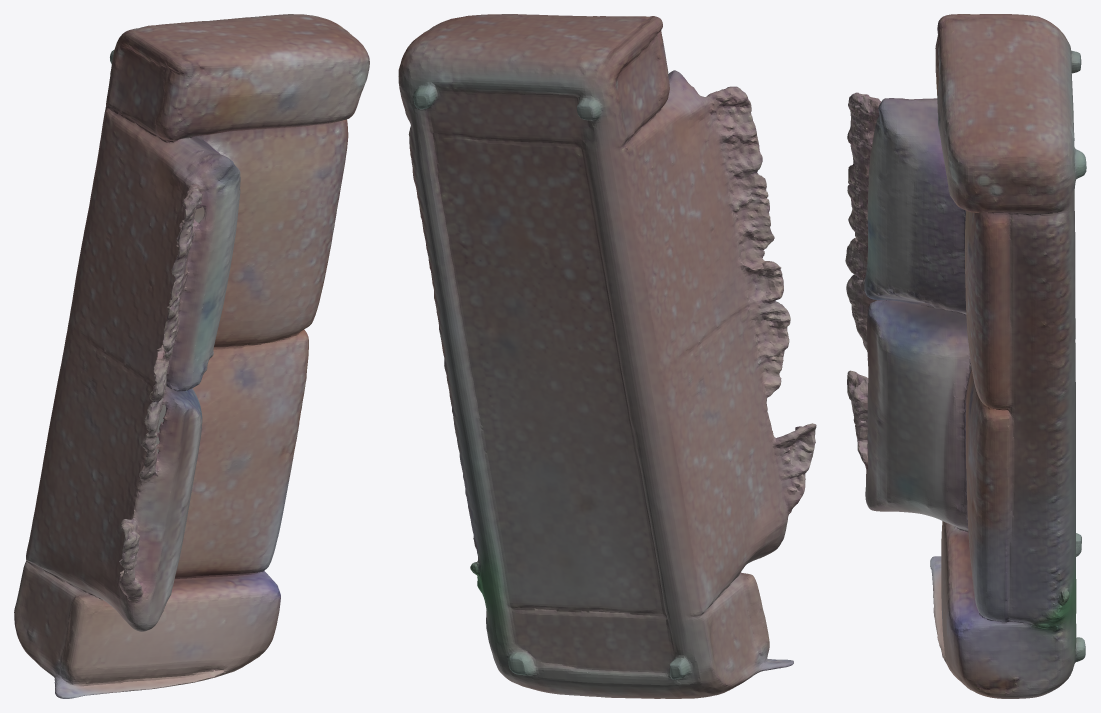
The picture shows the model from 3 angles, left to right: view 1: azimuth 30°, elevation 25°; view 2: azimuth 150°, elevation 25°; view 3: azimuth 270°, elevation 25°; orthographic projection. The views are drawn at different scales.
Visible parts, largest first — view 1: object-3.glb; view 2: object-3.glb; view 3: object-3.glb.
Part boxes in pixels (box(x1,y1,x2,y2)): object-3.glb: box(14, 14, 369, 698); object-3.glb: box(398, 14, 816, 698); object-3.glb: box(845, 14, 1086, 698).
Bounding box in the file's own units: 1.28 × 2.36 × 0.8044.
